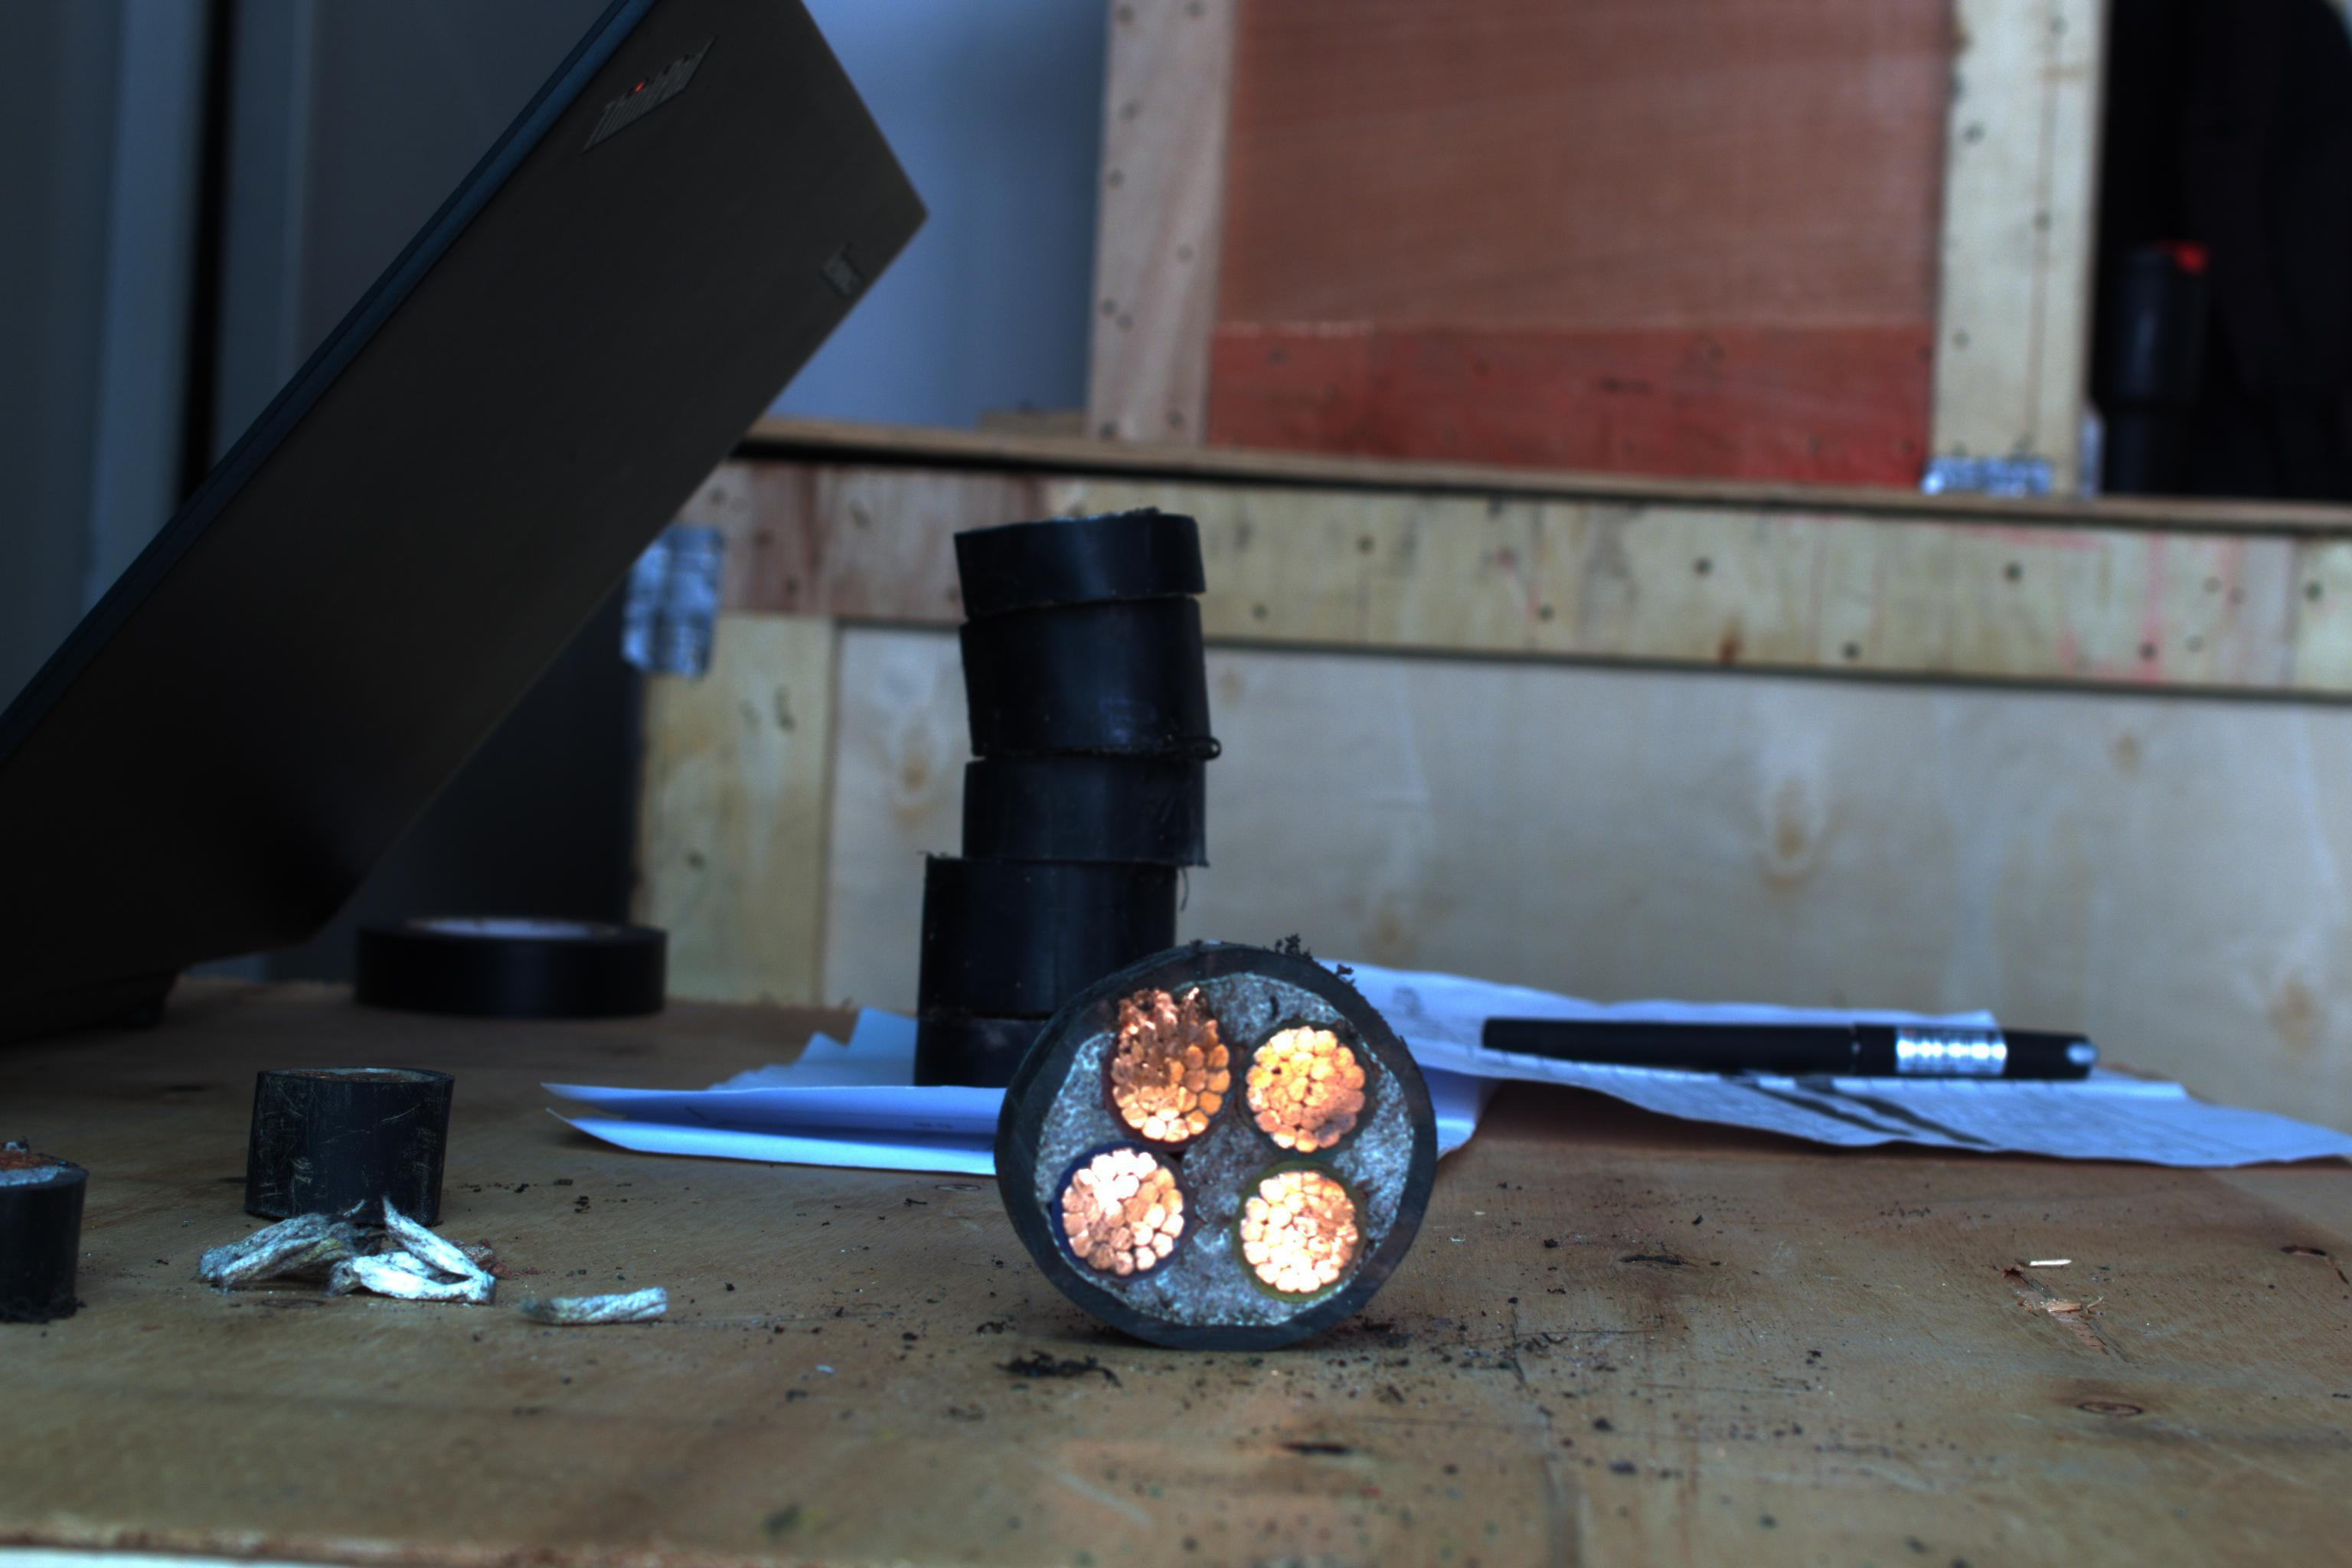YJV_0.6_1kV_4x120: (1020, 968, 1451, 1358)
